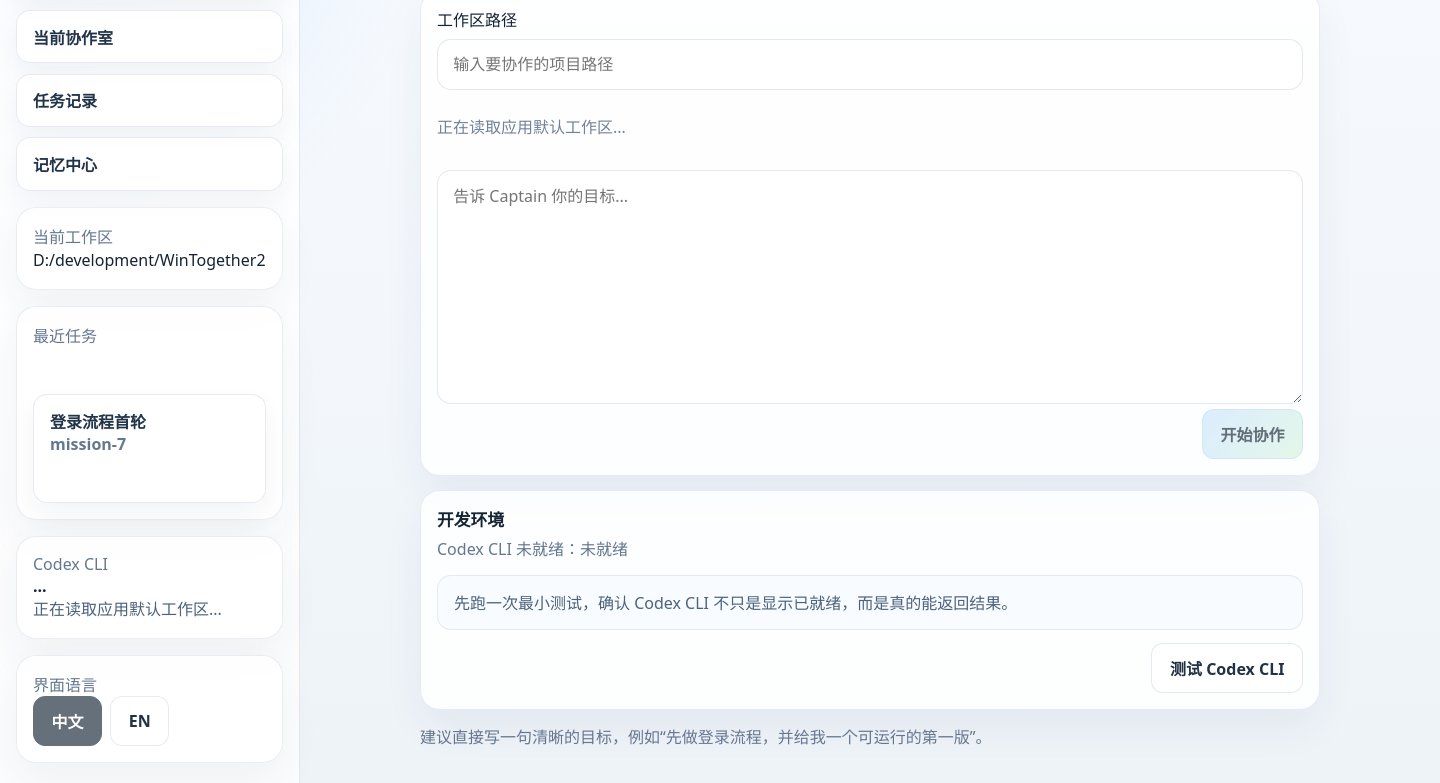
Test: AppShell workbench layout › shows recent missions in the sidebar and switches copy to English
The image size is (1440, 783).
(page scrolled)
Expected: the text "登录流程首轮" is shown, x1=50 y1=411 x2=146 y2=433
Click the button "EN".
click(140, 721)  # box x1=110 y1=696 x2=169 y2=746
(page scrolled)
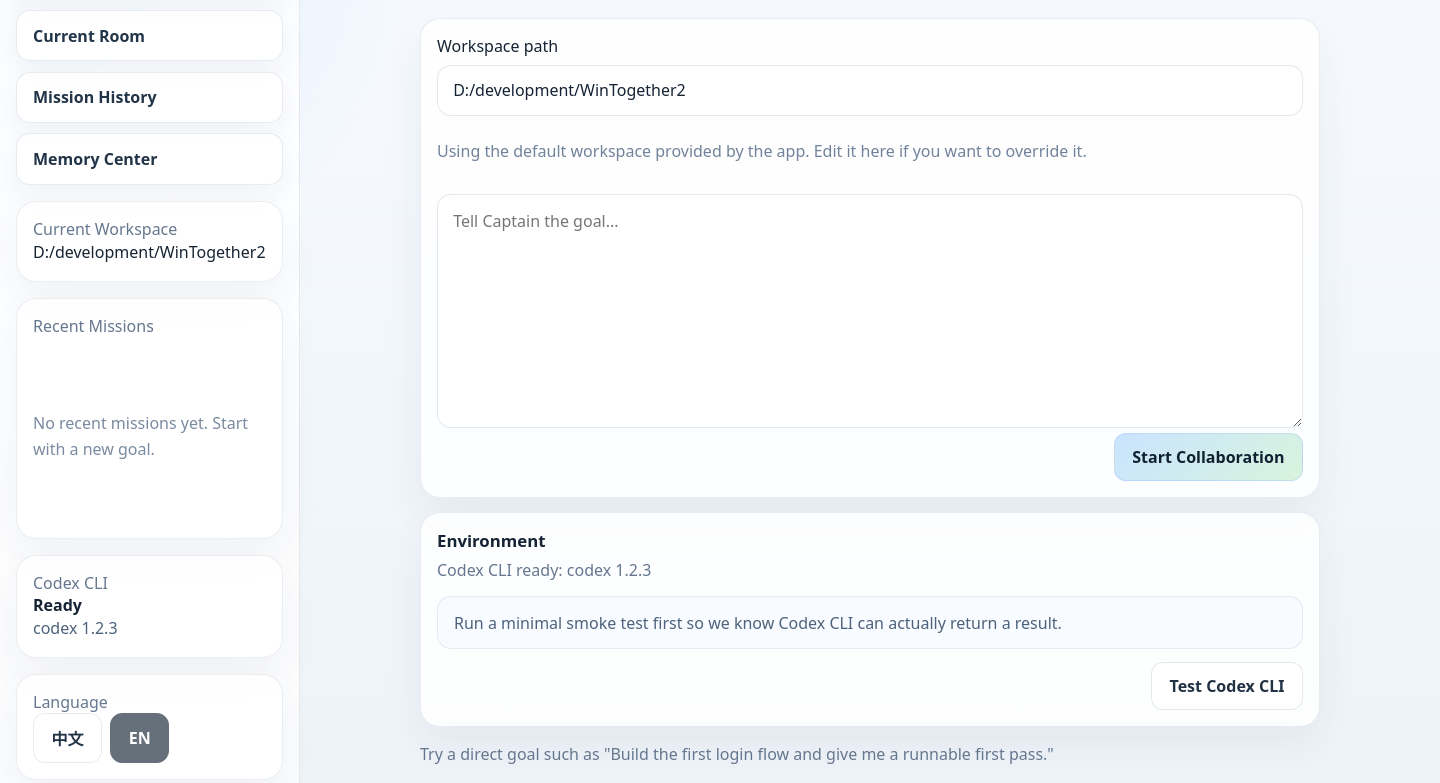
Expected: the link "Current Room" is shown, x1=16 y1=10 x2=283 y2=61
Expected: the link "Mission History" is shown, x1=16 y1=72 x2=283 y2=123
Expected: the link "Memory Center" is shown, x1=16 y1=133 x2=283 y2=184
